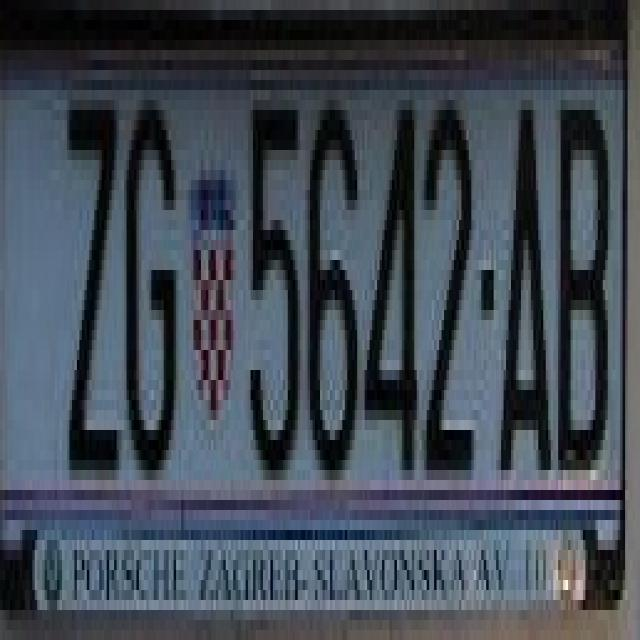2: (419, 100, 474, 480)
4: (364, 110, 416, 470)
5: (248, 80, 298, 470)
6: (305, 100, 355, 480)
A: (496, 100, 551, 480)
B: (556, 90, 610, 490)
G: (124, 90, 179, 460)
Z: (65, 90, 124, 470)
